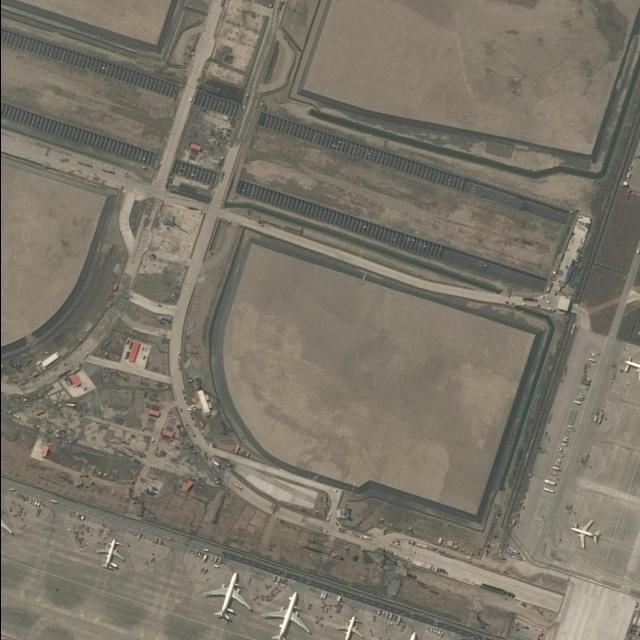Aircraft: (261, 590, 310, 640), (207, 575, 251, 625), (94, 534, 124, 572), (567, 521, 601, 553), (618, 349, 640, 388), (0, 496, 15, 548), (339, 615, 363, 640)
